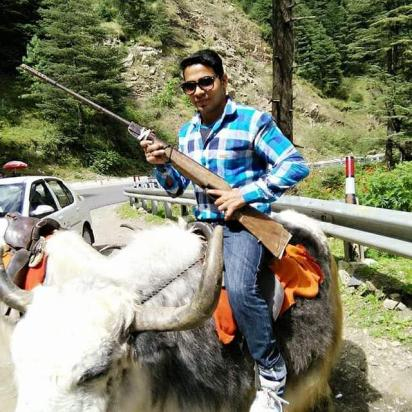Gun: (19, 62, 295, 262)
